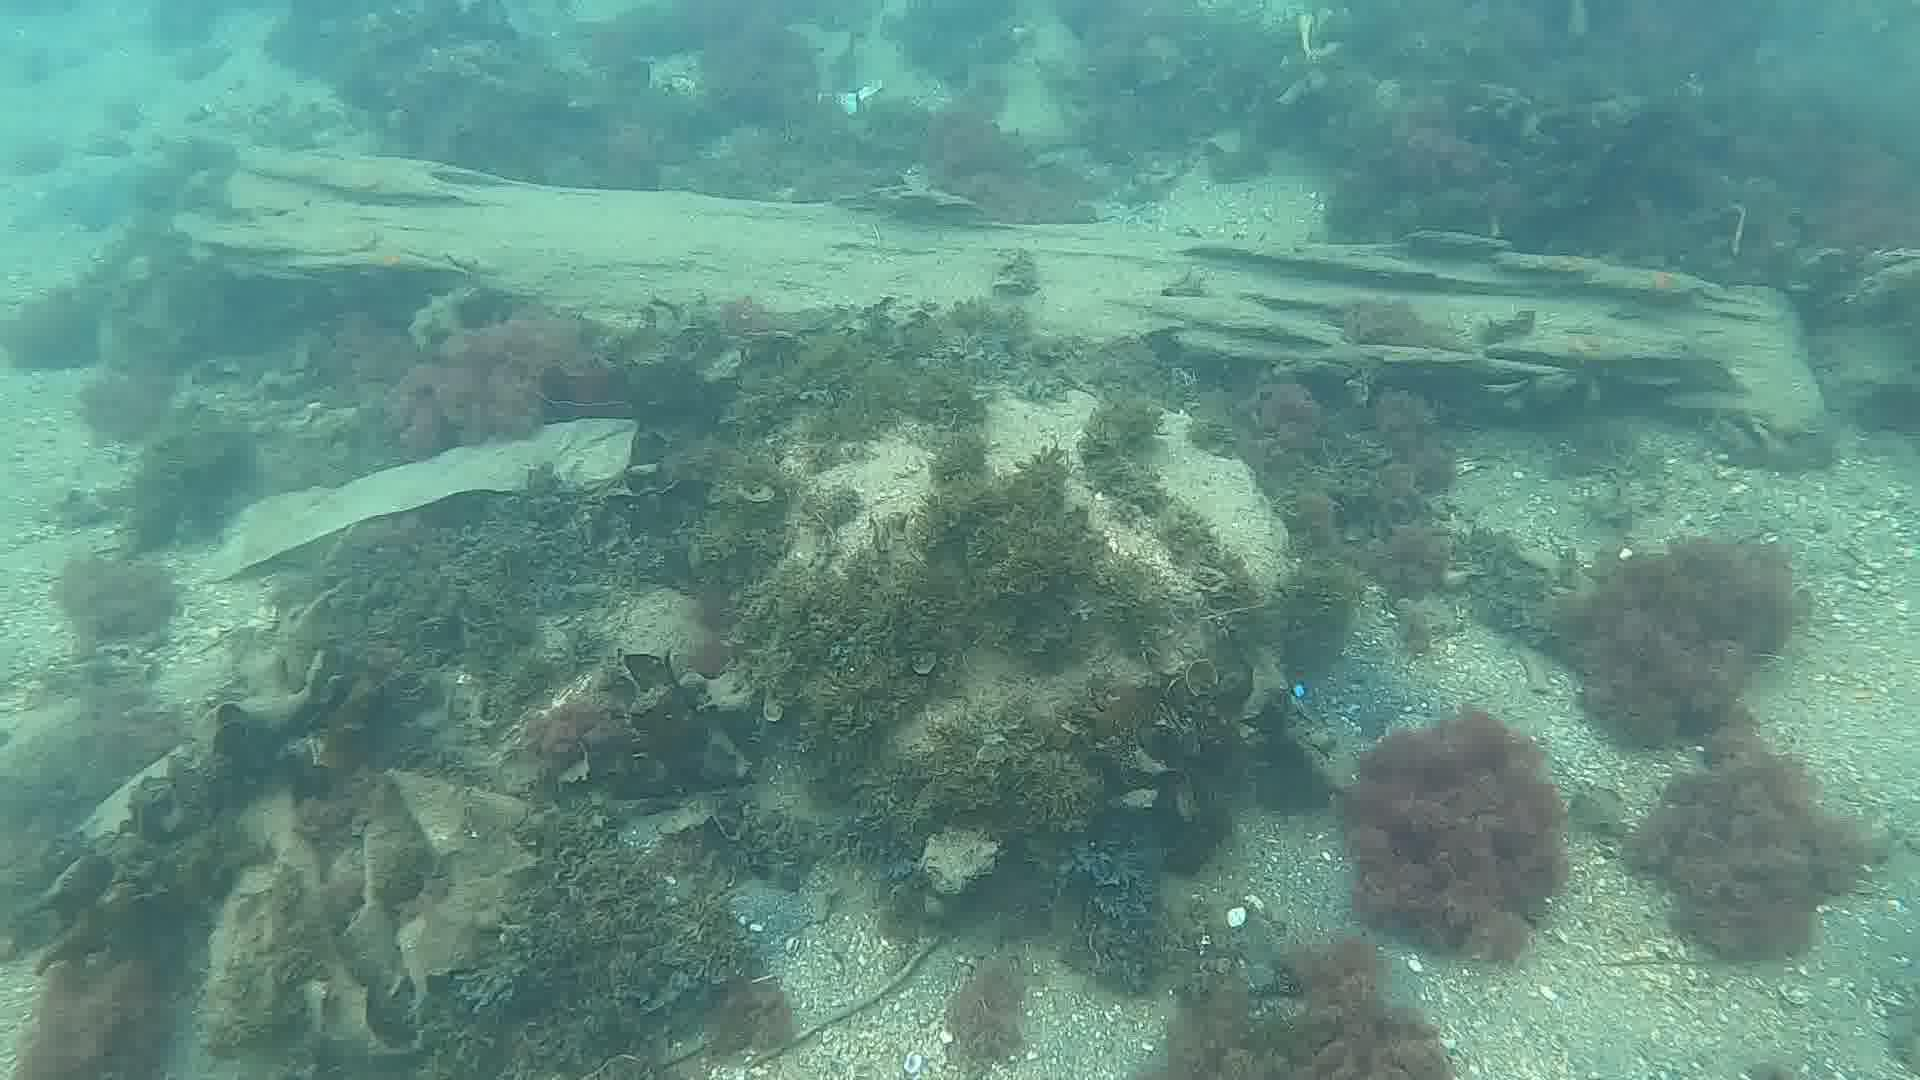wood: (169, 146, 1836, 473)
